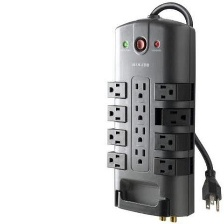three_eye_plug: (104, 10, 199, 221)
